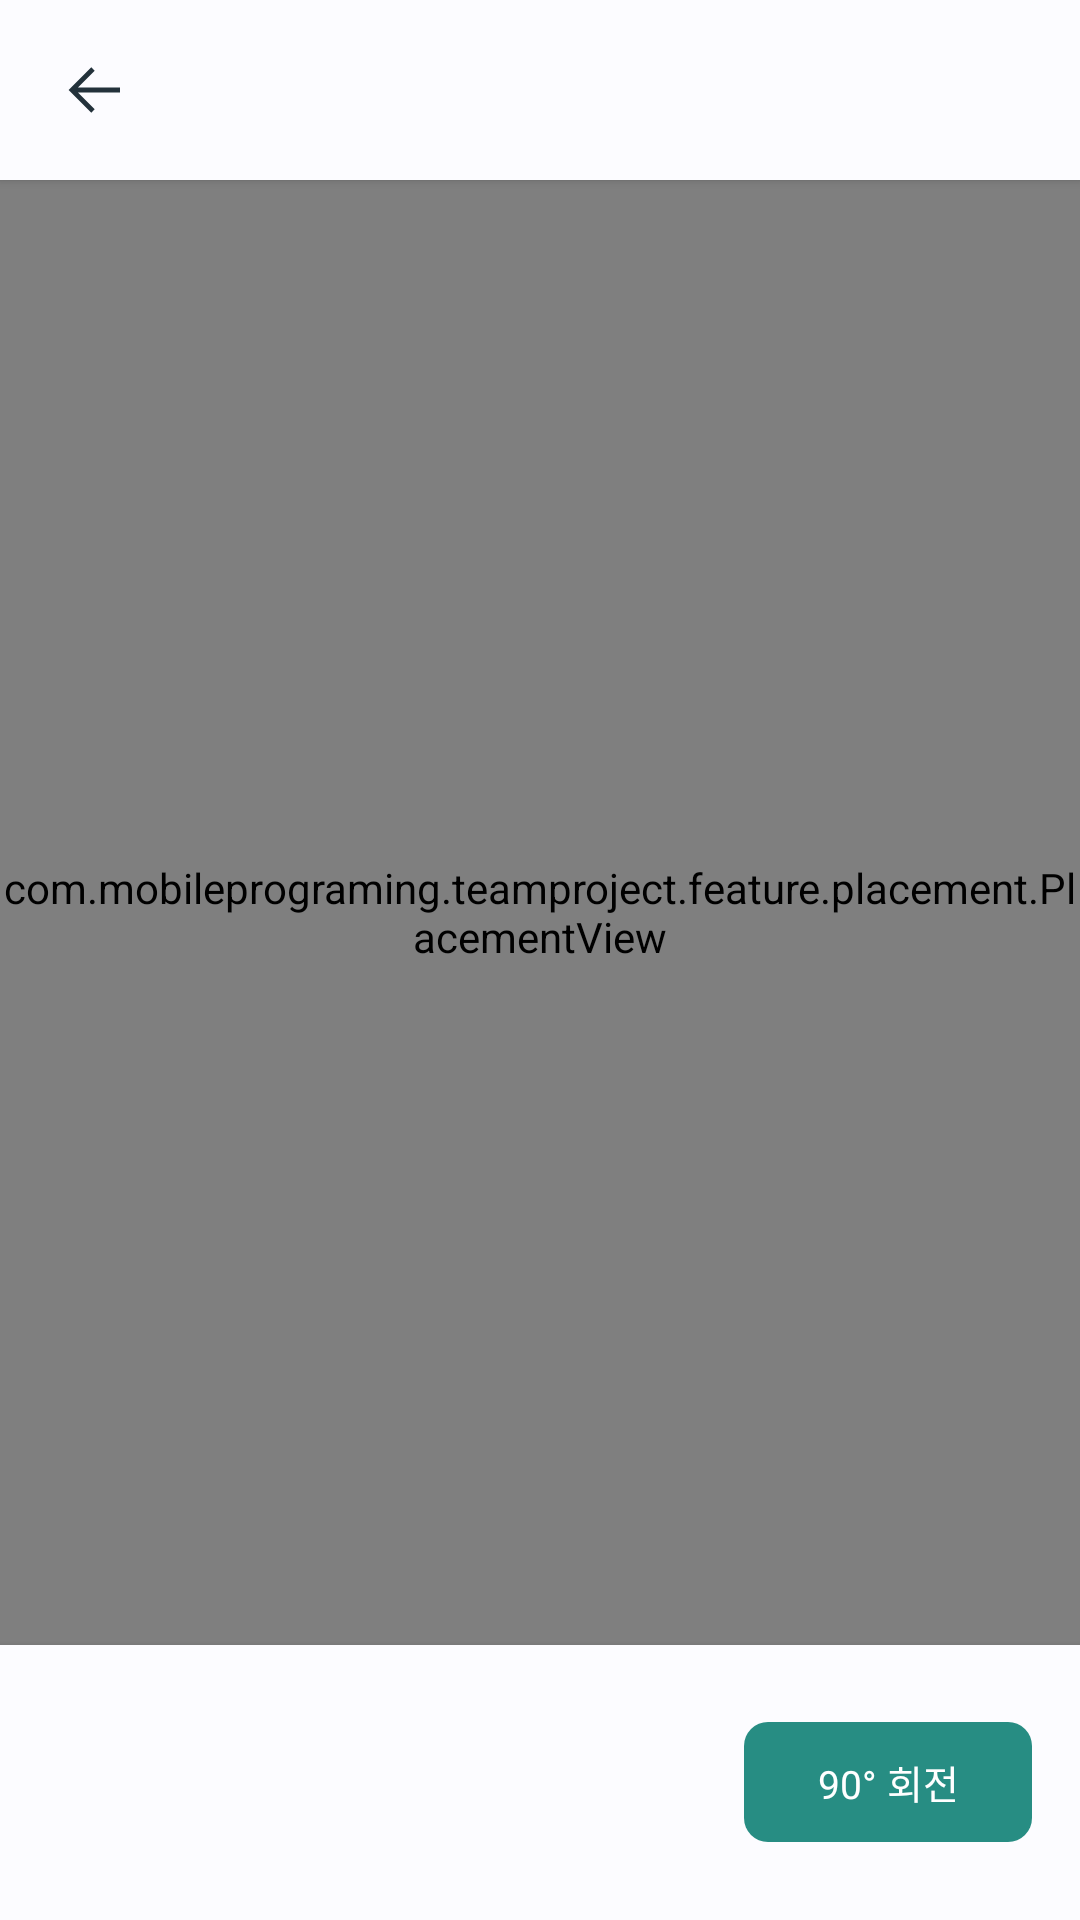

Icons on this 1080 × 1920 Android screen, each with the point to tap as [x,y]:
뒤로: [94,90]
